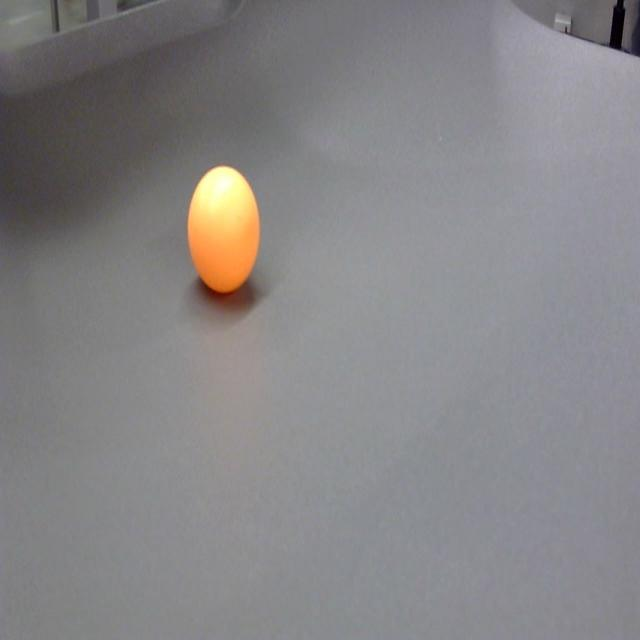ball: (186, 160, 263, 299)
